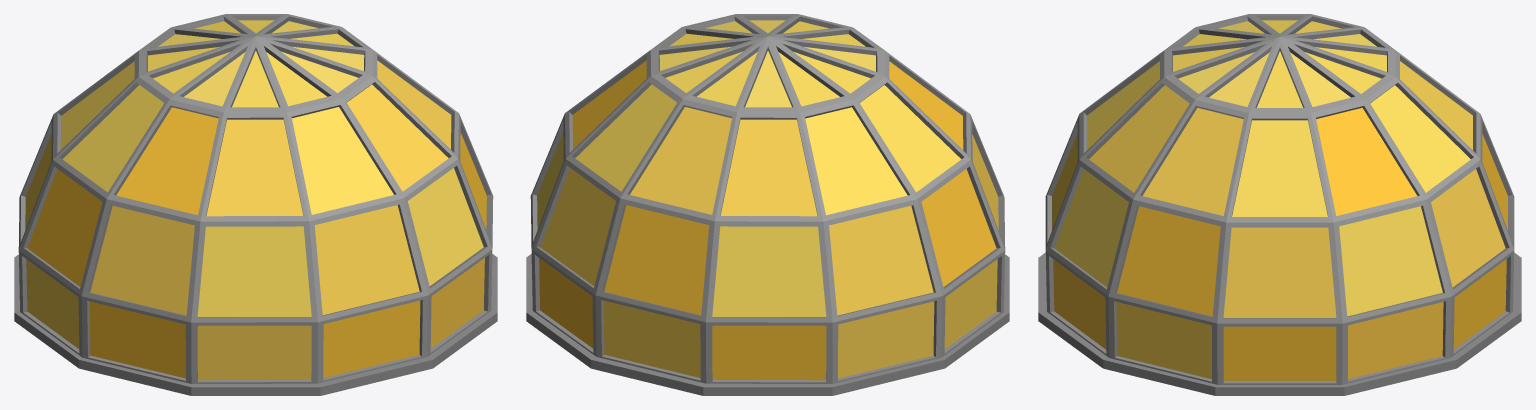
Rendered from f.sphera_3.gltf.
3 renders of one model, left to right at view 1: azimuth 30°, elevation 25°; view 2: azimuth 150°, elevation 25°; view 3: azimuth 270°, elevation 25°, orthographic.
Parts seen in each view (by area): view 1: sphere_3; view 2: sphere_3; view 3: sphere_3.
Part boxes in pixels (box(x1,y1,x2,y2)): sphere_3: box(14, 14, 497, 395); sphere_3: box(526, 14, 1009, 395); sphere_3: box(1038, 14, 1521, 395).
Size of the model in its own units: 9.69 by 5.69 by 9.69.
1 material, 1 textured.
